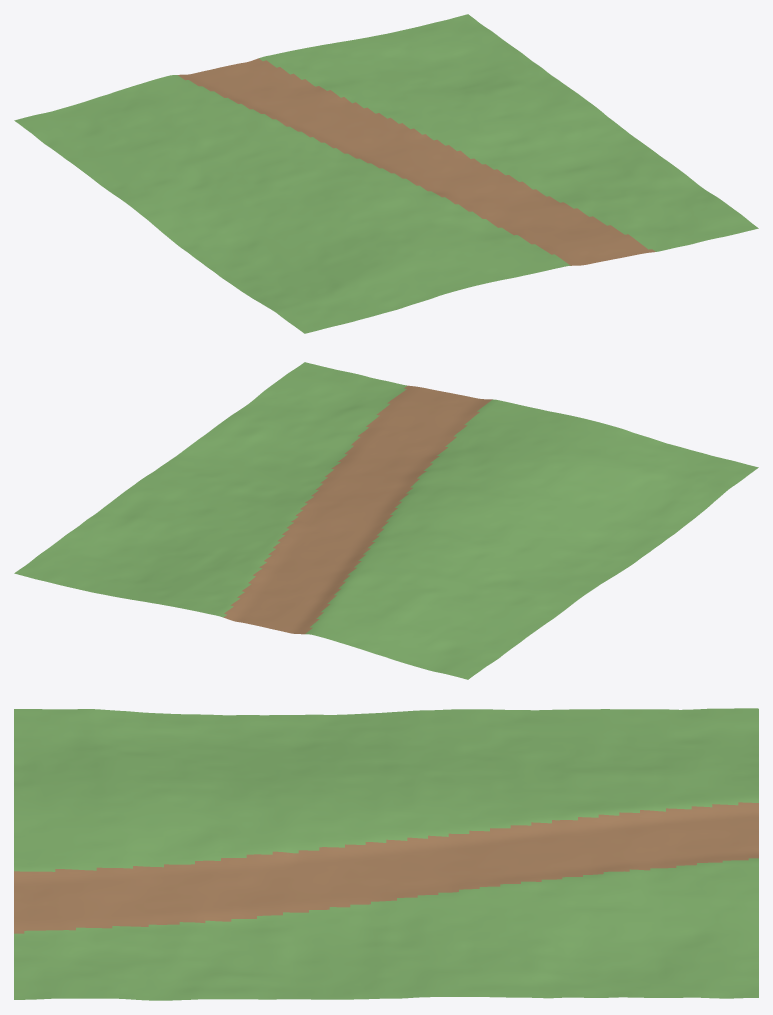
The model's file is cedar_hollow_heightmesh_0_neg2.glb.
3 views of the same model, one above another, from view 1: azimuth 30°, elevation 25°; view 2: azimuth 150°, elevation 25°; view 3: azimuth 270°, elevation 25° (orthographic). The views are drawn at different scales.
Parts seen in each view (by area): view 1: cedar_hollow_heightmesh_0_neg2; view 2: cedar_hollow_heightmesh_0_neg2; view 3: cedar_hollow_heightmesh_0_neg2.
Part boxes in pixels (x1=…): cedar_hollow_heightmesh_0_neg2: x1=14, y1=14, x2=758, y2=333; cedar_hollow_heightmesh_0_neg2: x1=14, y1=362, x2=758, y2=679; cedar_hollow_heightmesh_0_neg2: x1=14, y1=708, x2=758, y2=1000.
Bounding box in the file's own units: 11 × 0.3547 × 12.2.
